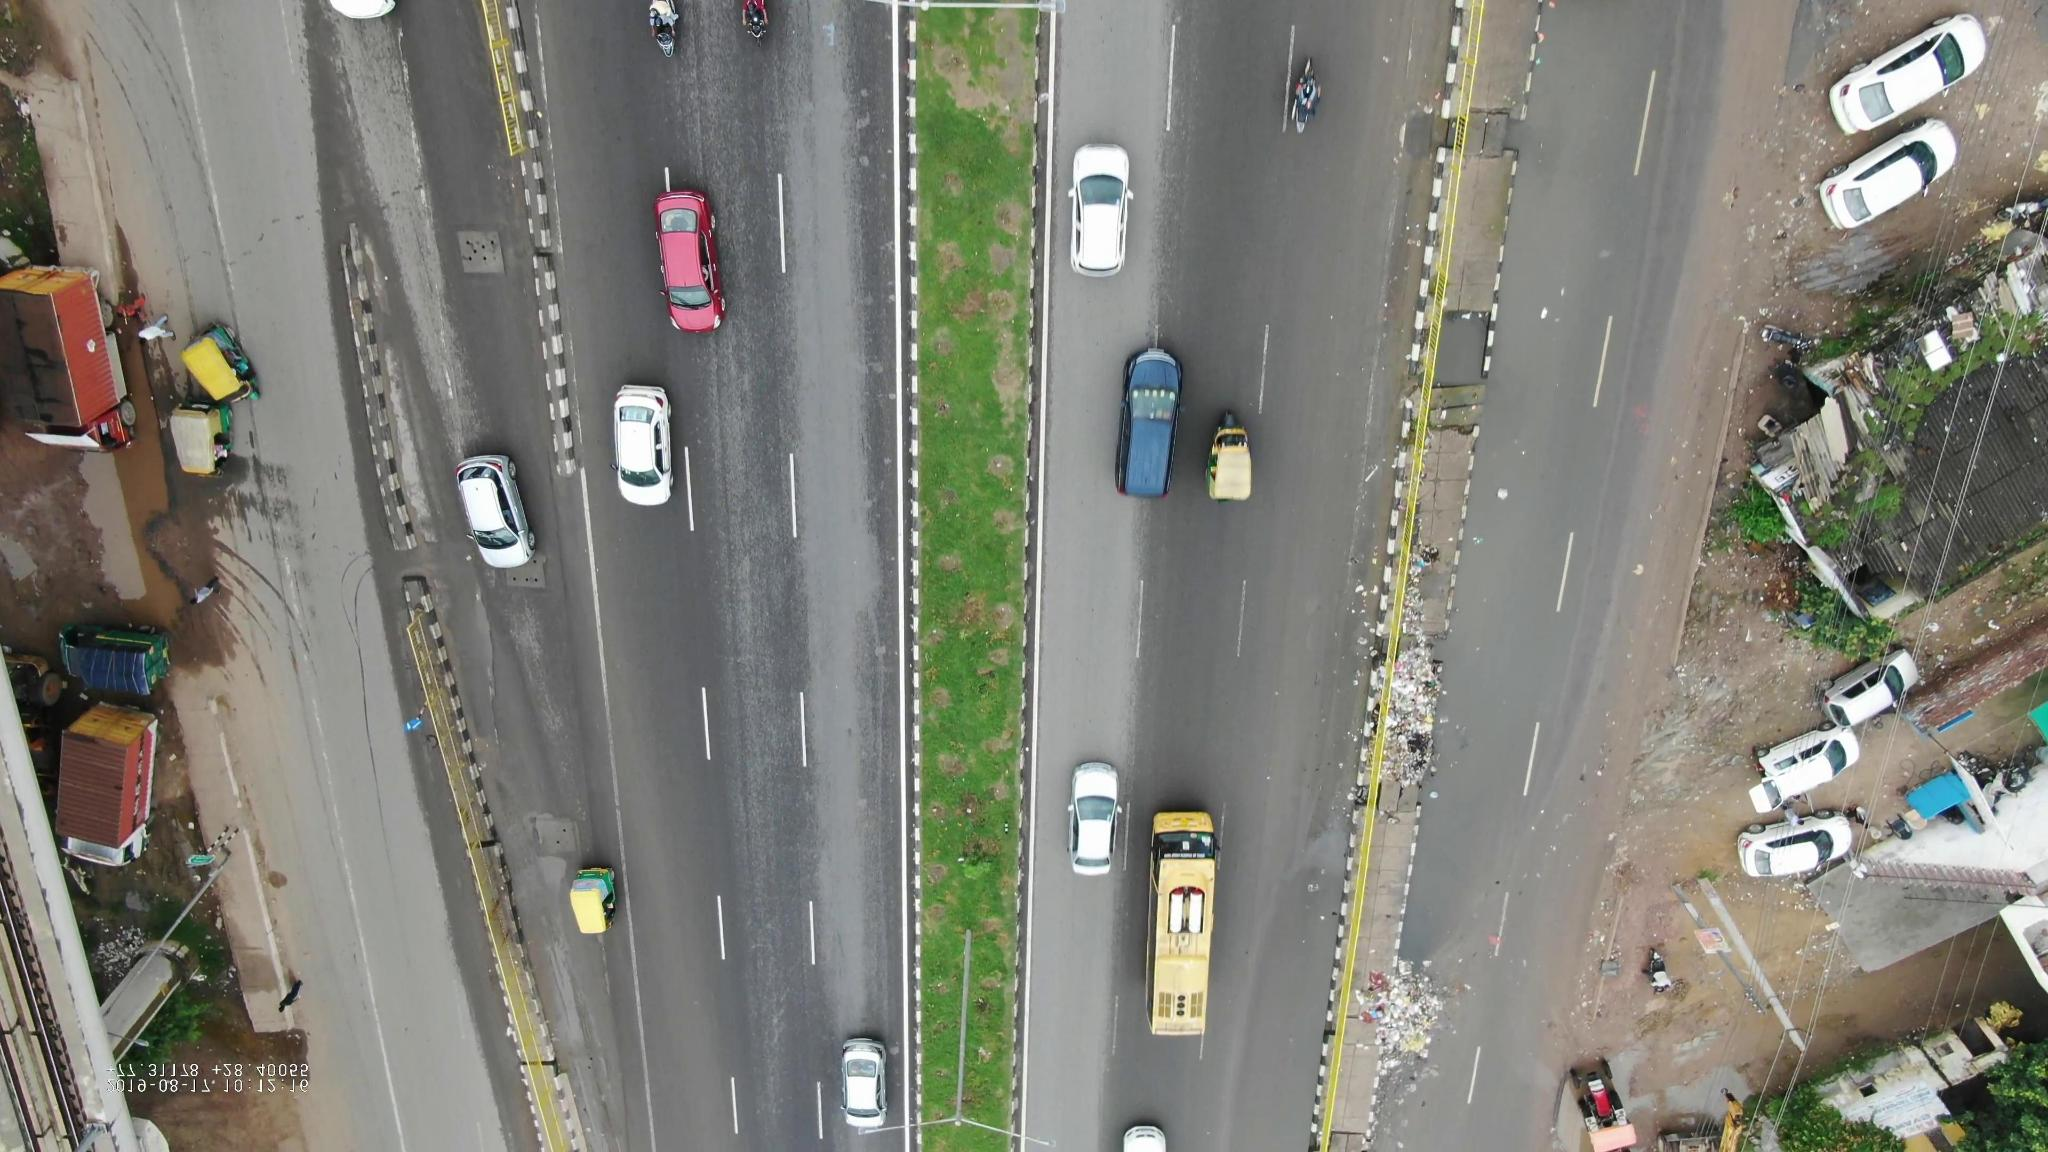Road_side_garbage: (1369, 580, 1443, 779), (1371, 955, 1456, 1061)
